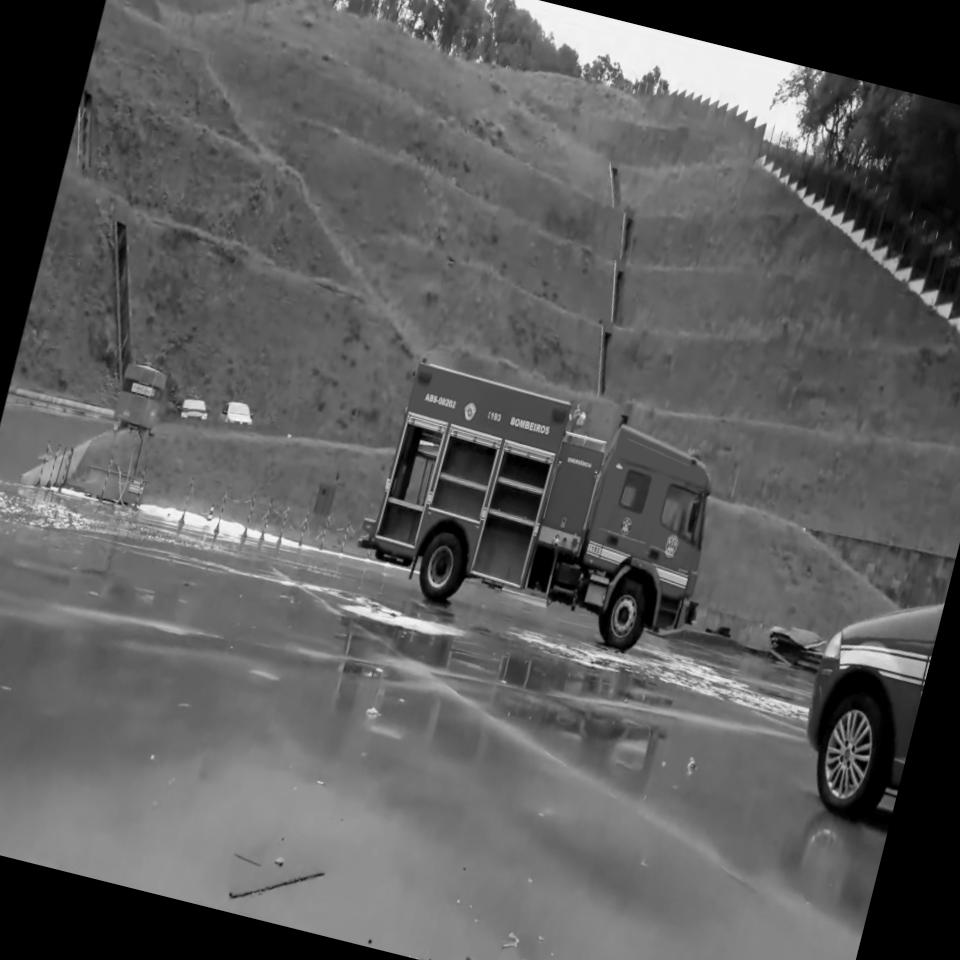viatura: (346, 349, 744, 668)
